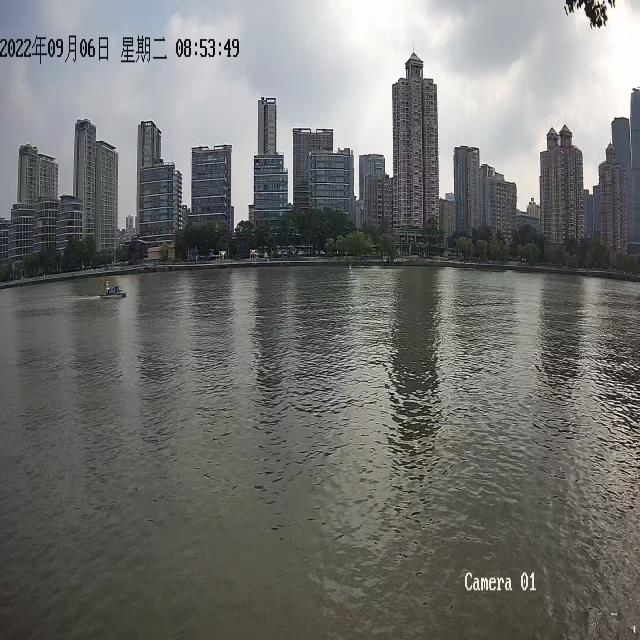ship: (100, 279, 126, 297)
